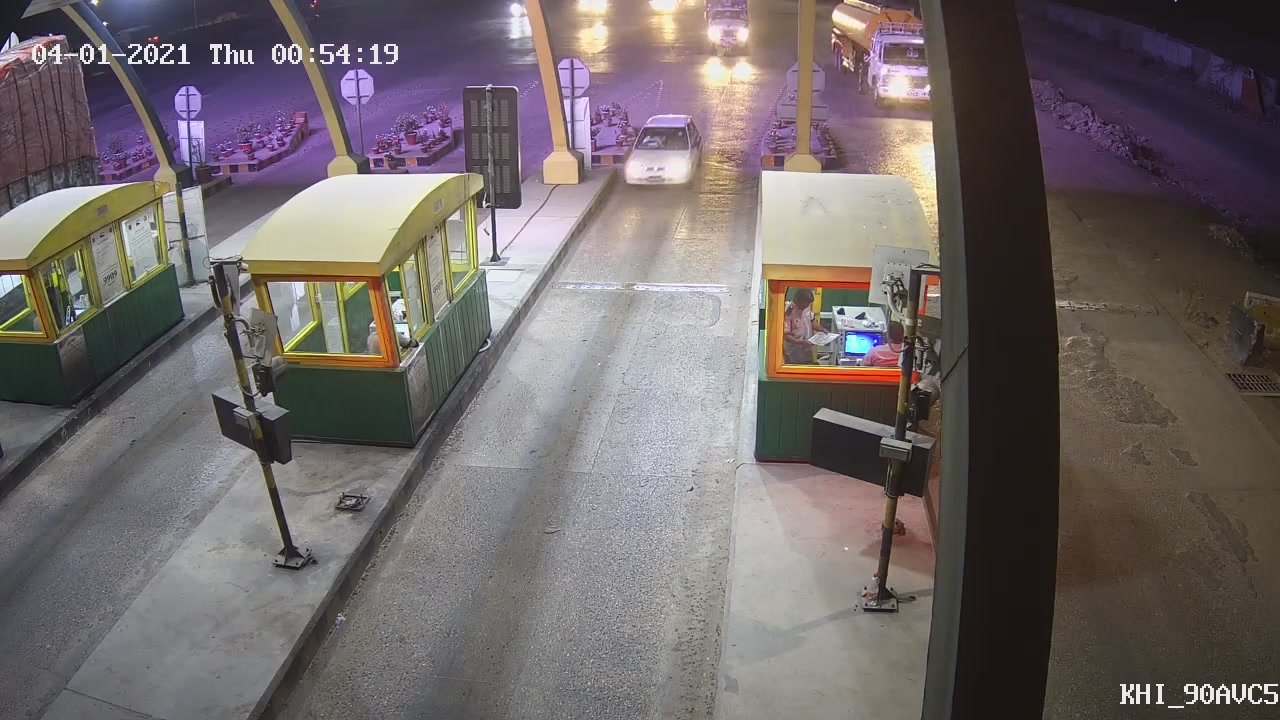F1: (607, 102, 705, 209)
